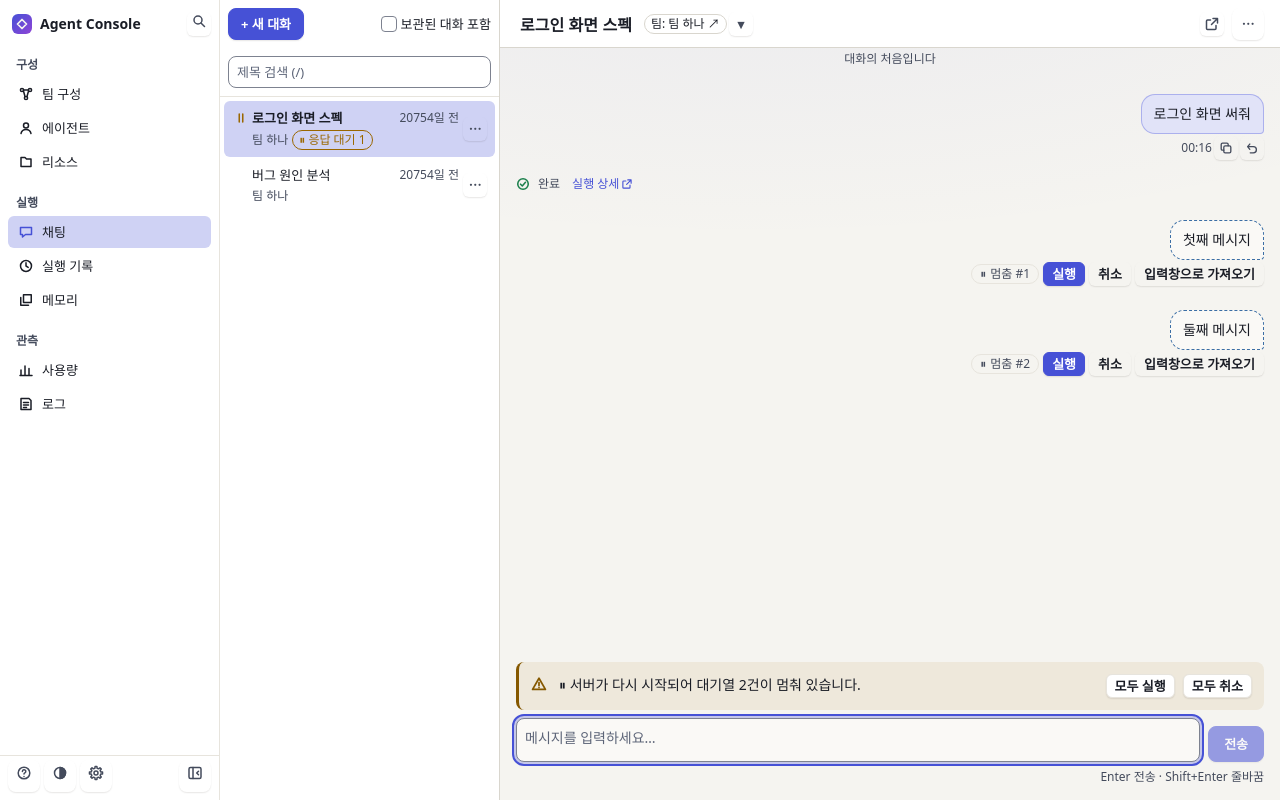
Scenario: 재시작 뒤 멈춘 대기열 › [취소]는 확인 없이 DELETE, [입력창으로 가져오기]는 텍스트를 입력창에 넣고 항목을 지운다, [모두 취소]는 확인
Click the button "입력창으로 가져오기" in the row of "멈춤 #1" at (1200, 274), box x1=1135 y1=262 x2=1264 y2=286
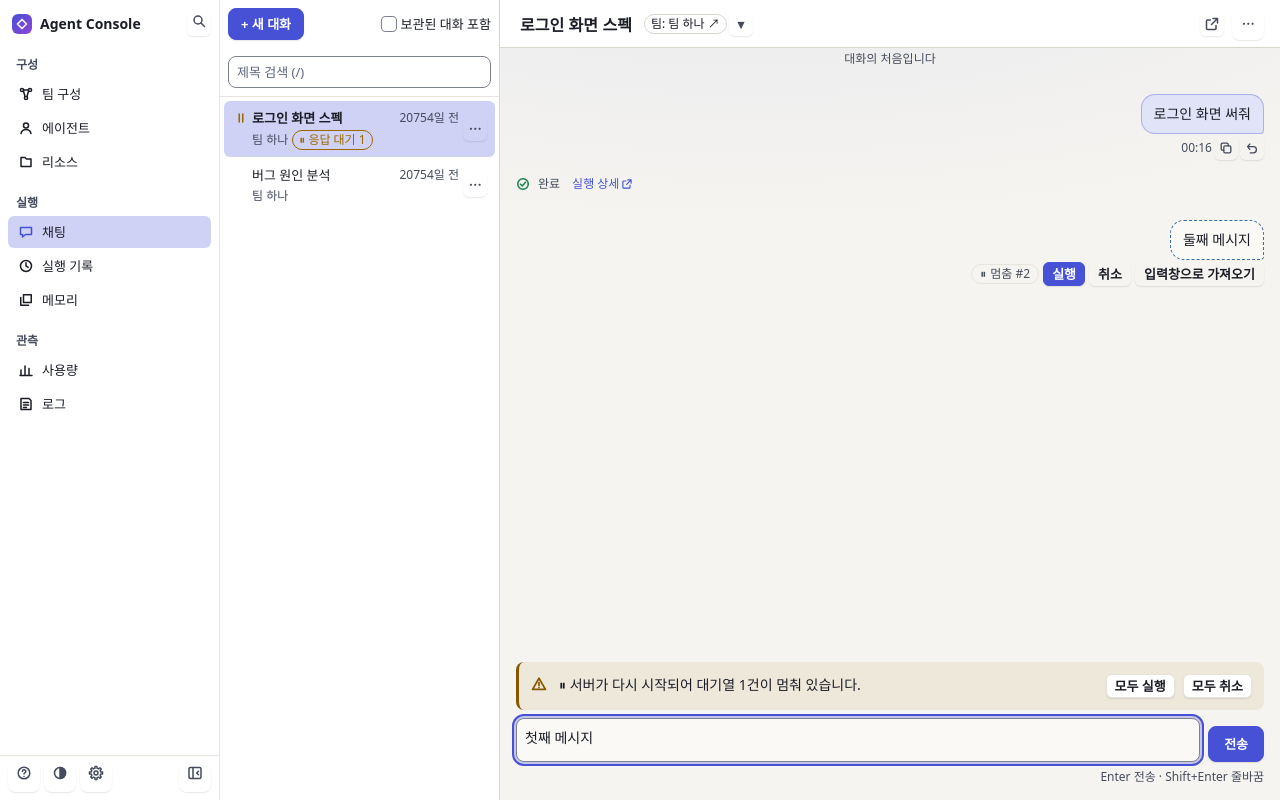
Expected: the text box named "메시지 입력" holds "첫째 메시지", x1=516 y1=718 x2=1200 y2=762
Click the button "모두 취소" at (1217, 686), box x1=1183 y1=674 x2=1252 y2=698
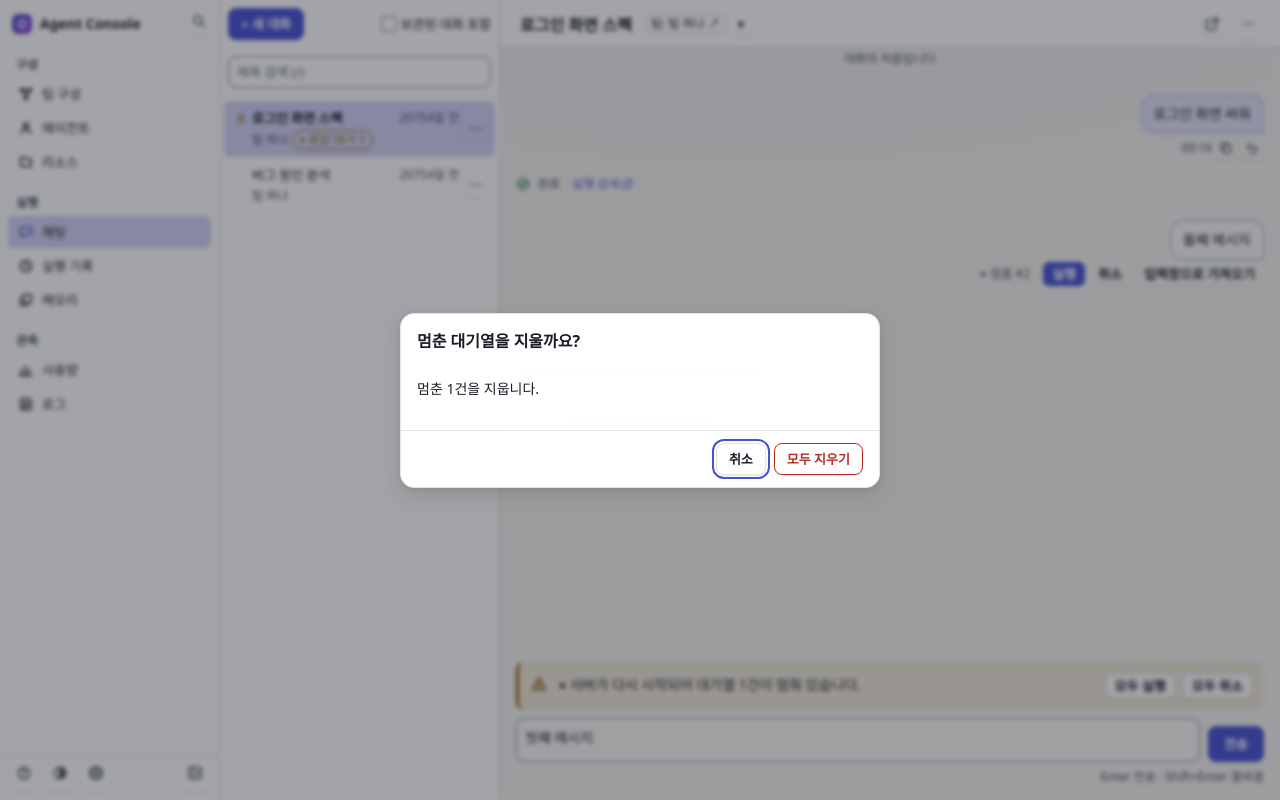
Expected: the dialog shows "멈춘 1건을 지웁니다", x1=417 y1=378 x2=539 y2=398
Click the button "모두 지우기" at (818, 458), box x1=774 y1=442 x2=863 y2=474
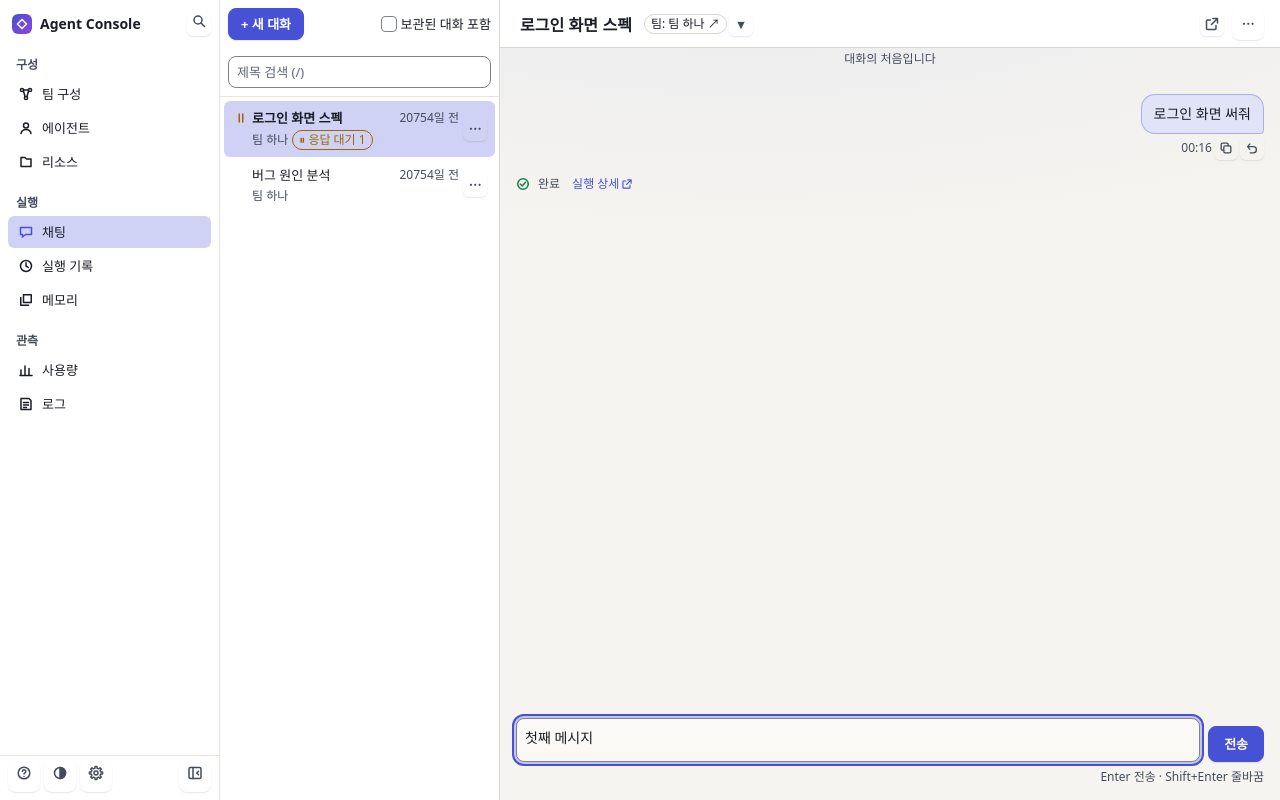
Expected: the text "멈춰 있습니다" is gone
